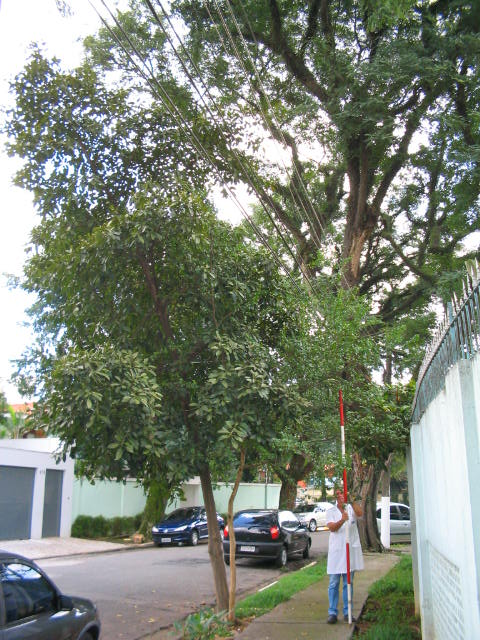crown: (19, 176, 314, 489)
stem: (191, 490, 234, 614)
stick: (331, 389, 362, 624)
tree: (16, 176, 313, 624)
